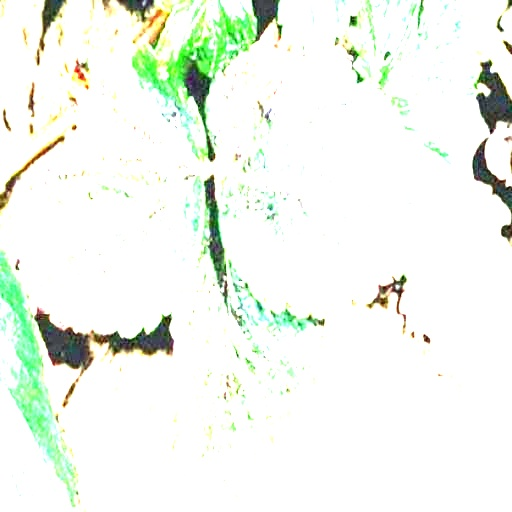Leaf Spot: (205, 20, 441, 321), (8, 38, 209, 336), (169, 243, 328, 511)
